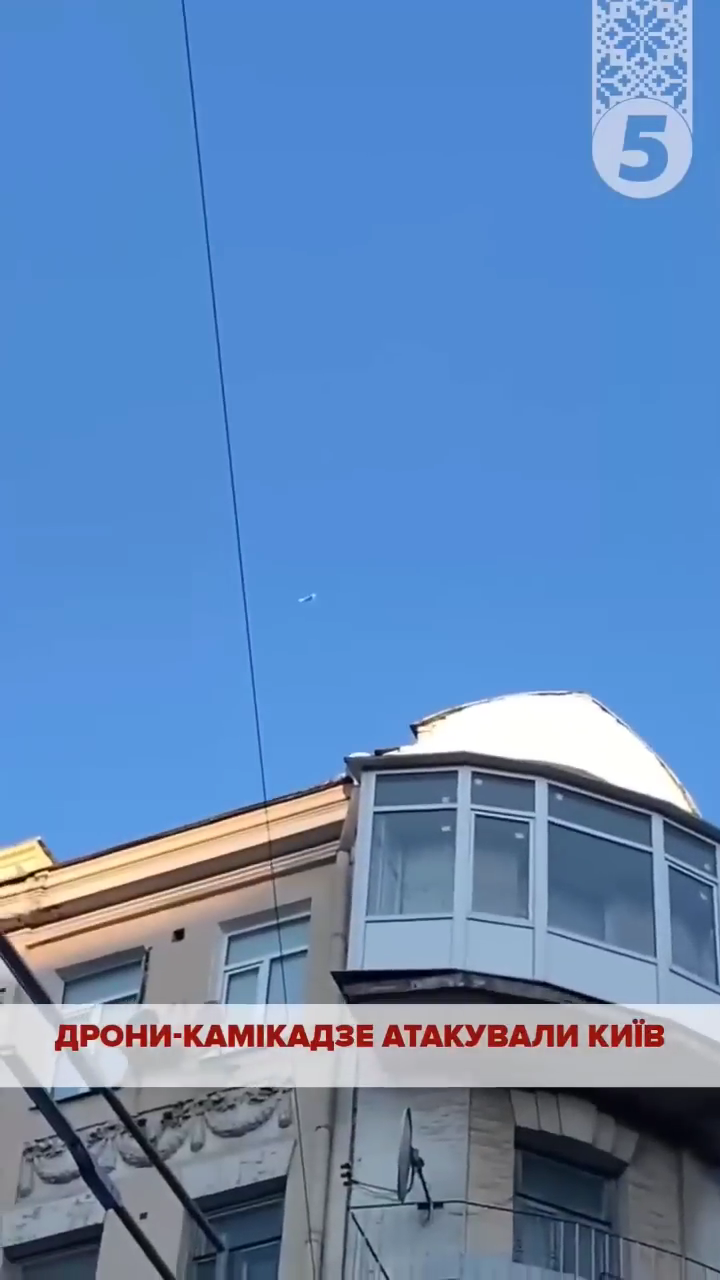shahed: (296, 589, 319, 607)
